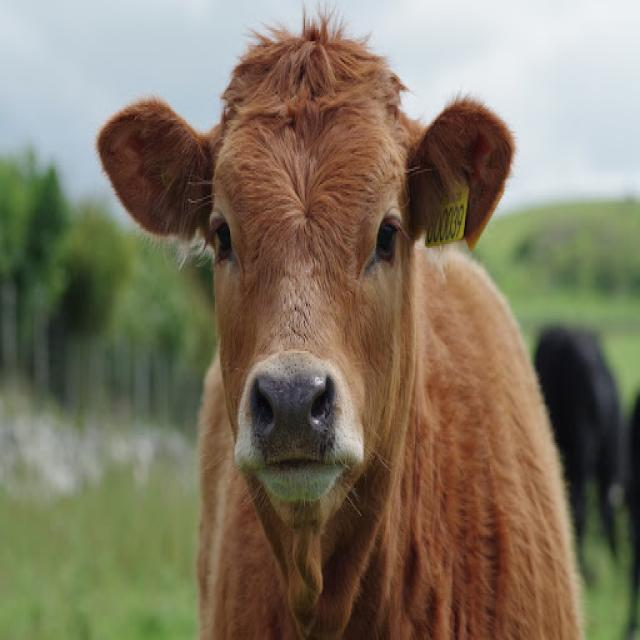cowFace: (82, 5, 518, 528)
